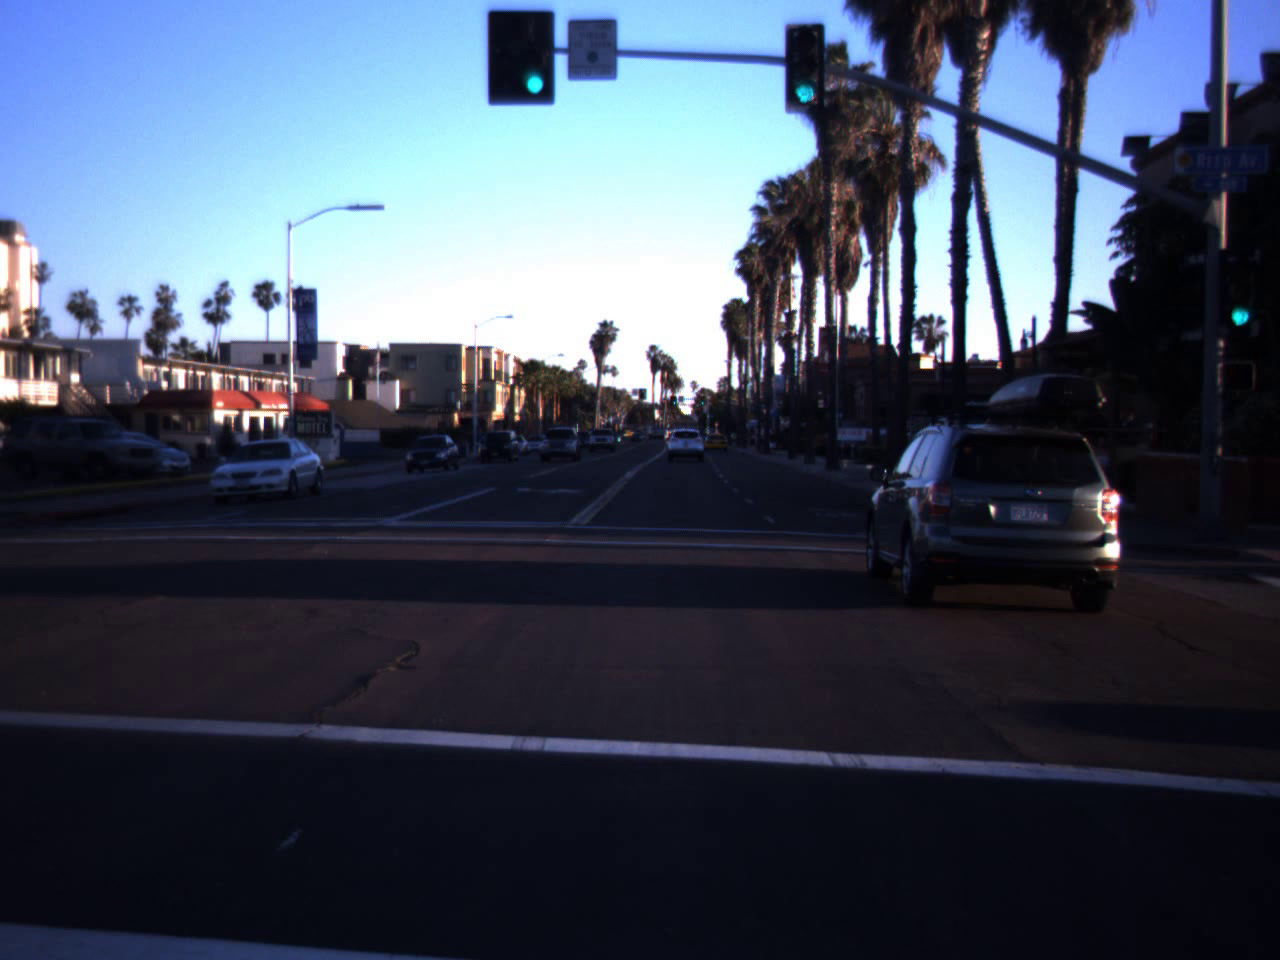go: (514, 24, 556, 99), (788, 47, 818, 107)
